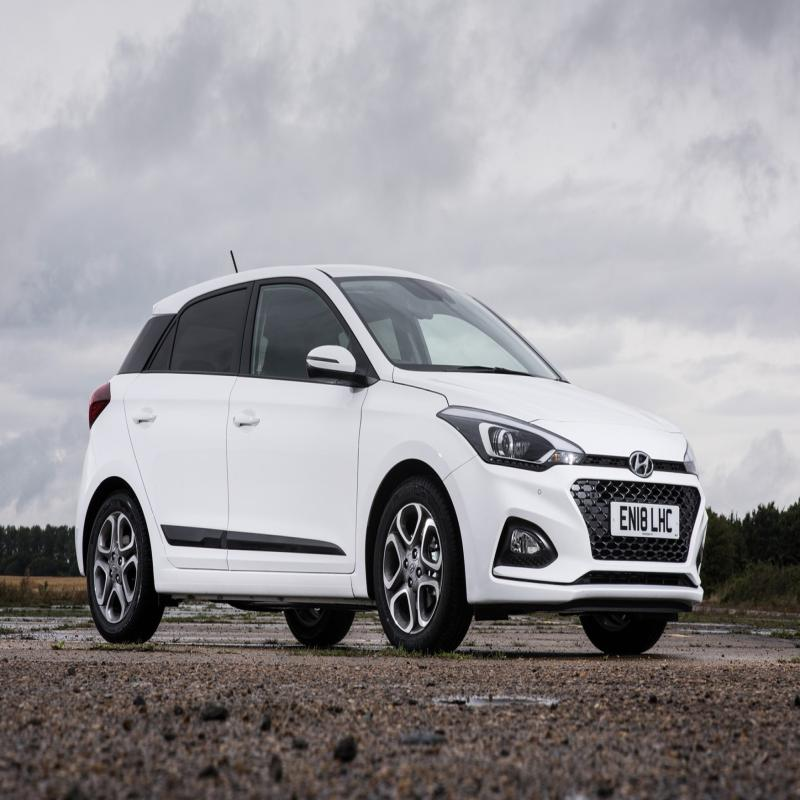car: (65, 258, 738, 636)
